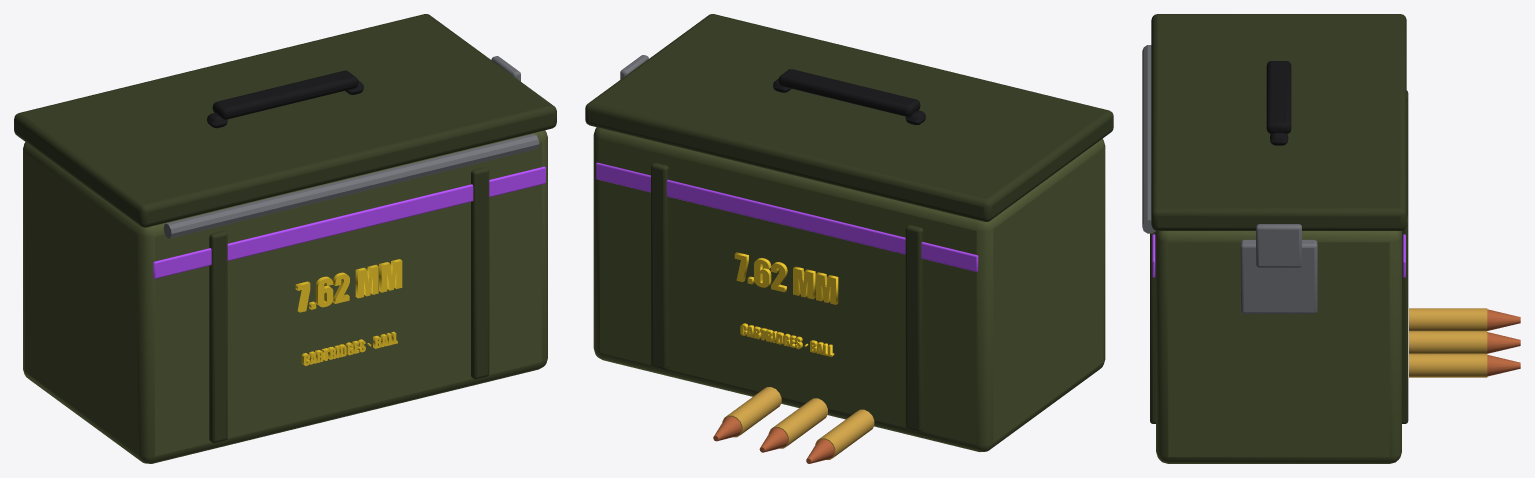
Rendered from municion_3.glb.
The picture shows the model from 3 angles, left to right: view 1: azimuth 30°, elevation 25°; view 2: azimuth 150°, elevation 25°; view 3: azimuth 270°, elevation 25°; orthographic projection. The views are drawn at different scales.
Visible parts, largest first — view 1: Cube; view 2: Cube; view 3: Cube.
Boxes of the visible parts, <box> form: Cube: <box>14,14,556,463</box>; Cube: <box>585,14,1113,463</box>; Cube: <box>1142,14,1520,463</box>.
Bounding box in the file's own units: 0.318 × 0.2 × 0.2462.
